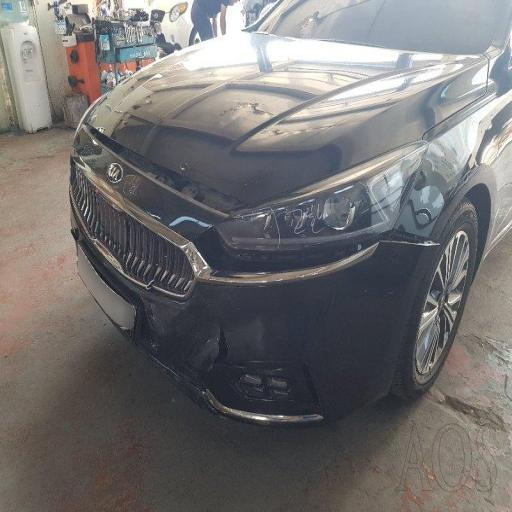broken: (188, 160, 438, 340), (172, 290, 356, 464)
